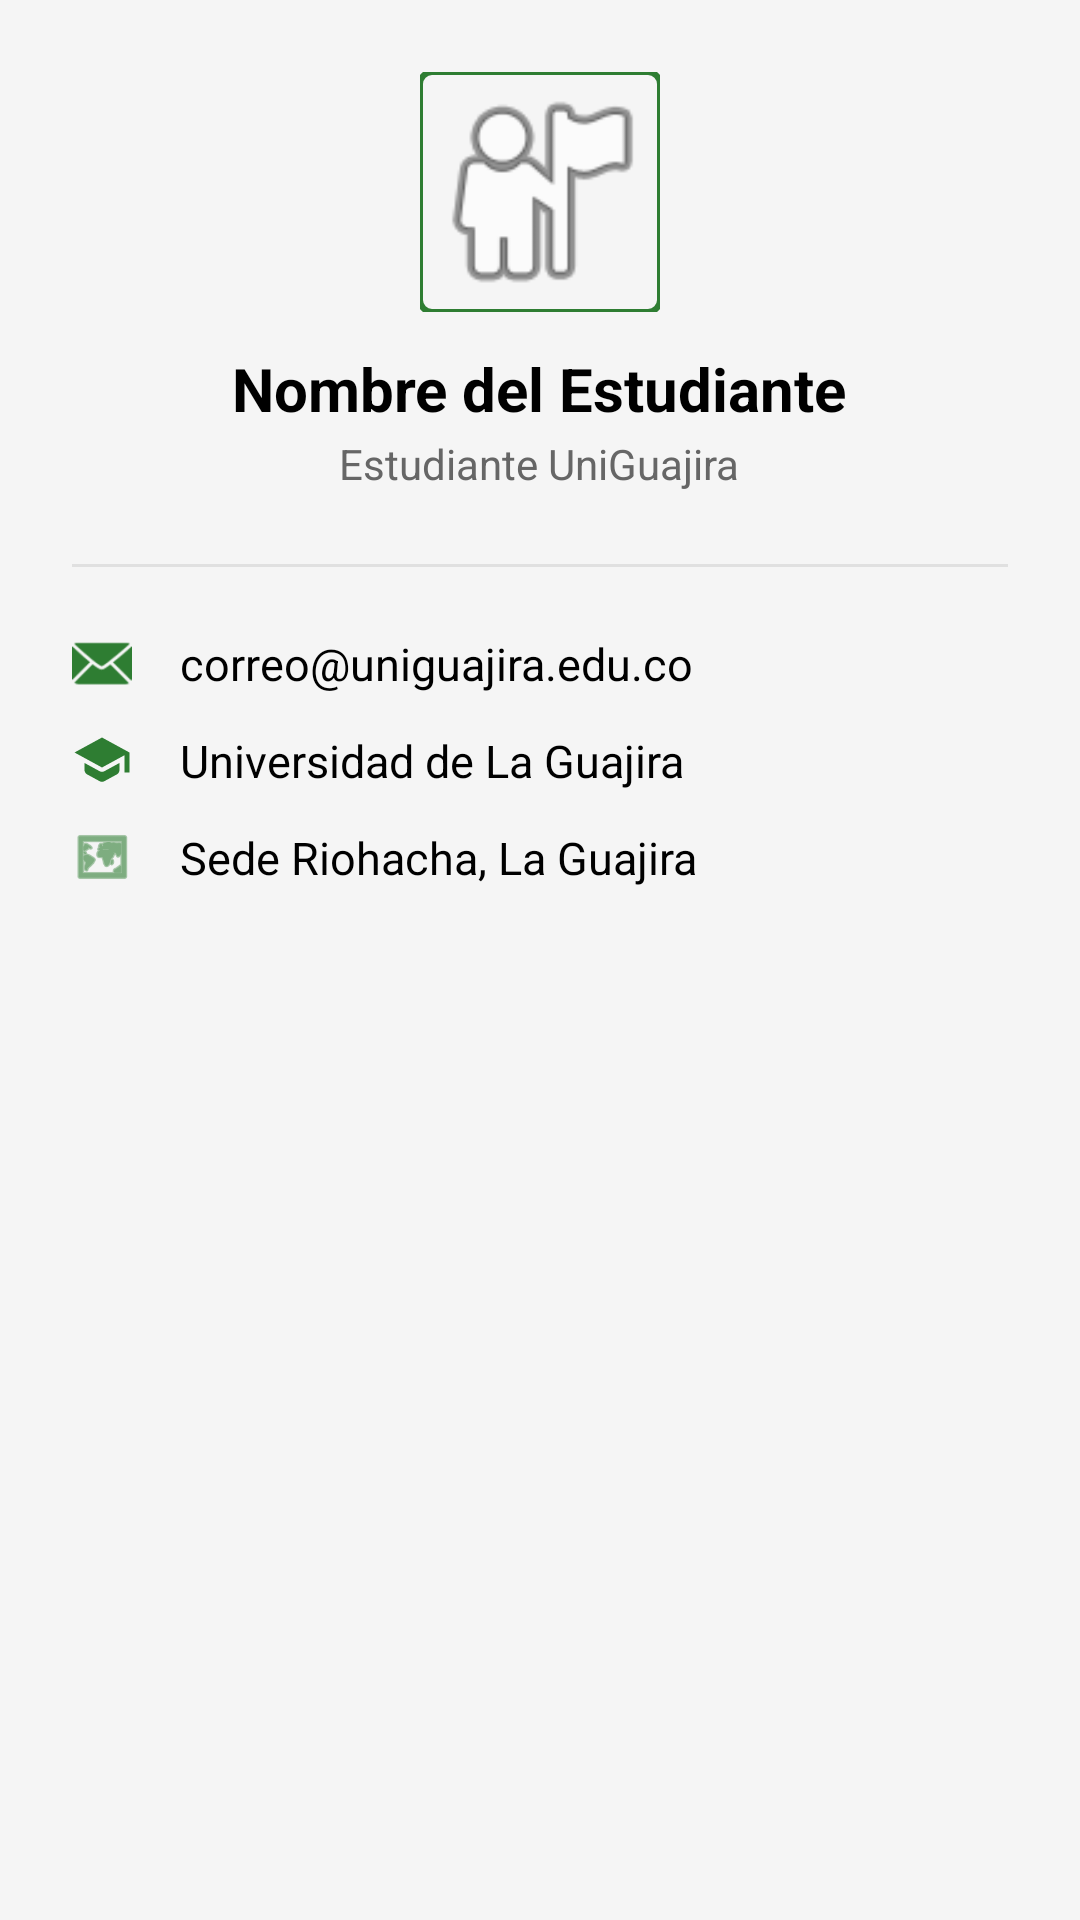

Icons on this 1080w x 1920h Android screen, each with its box as BBox(x1, y1, x2, y2):
email: BBox(72, 642, 132, 685)
mapmode: BBox(77, 835, 127, 879)
school: BBox(74, 737, 130, 782)
